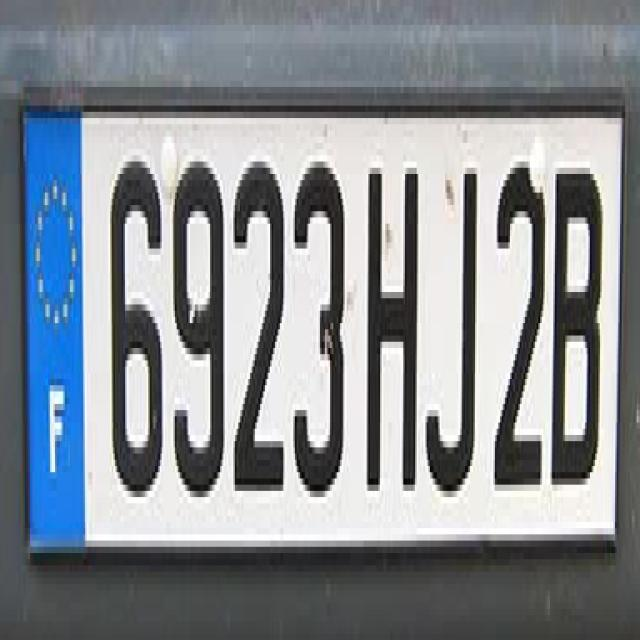EU: (23, 113, 619, 542)
France: (22, 113, 84, 550)
